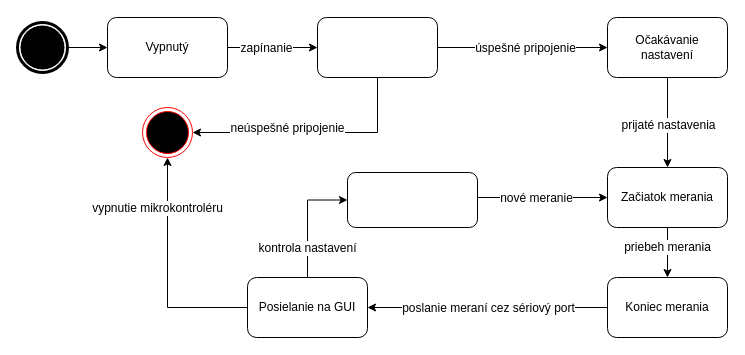
This 745x355 diagram has some shape labels left out. The centre of each missing label's shape, as x and y in pixels:
kontrola nových nastavení: the point at 412,200
Pokus o sériové pripojenie: the point at 377,47
